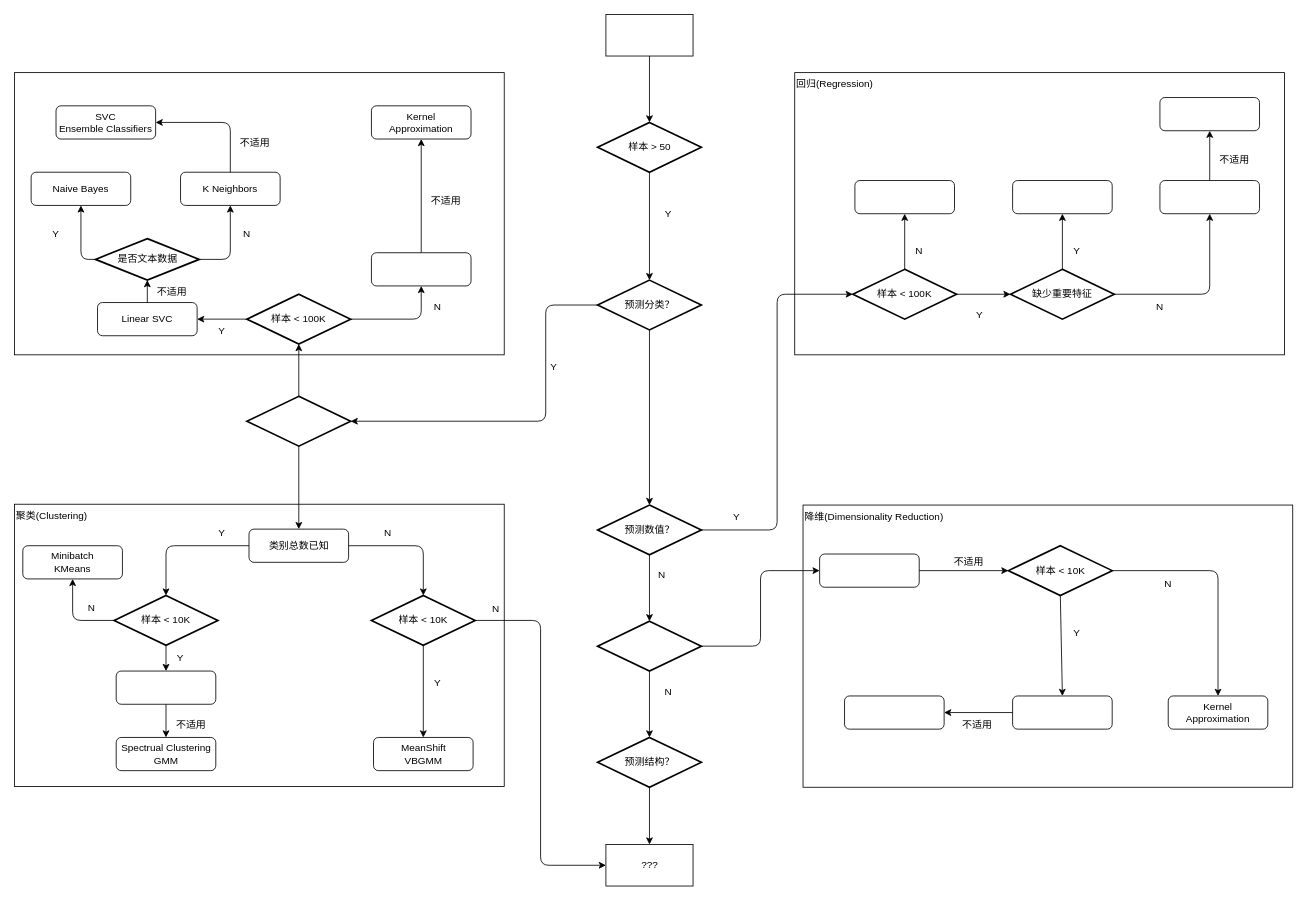
This 1307x901 diagram has some shape labels left out. The shapes that lost their labels are listed below. From the top down, each one's box as (x1, y1, x2, y2) in pixels, then its label:
(605, 14, 693, 56): 开始
(1159, 97, 1260, 131): SVR EnsembleRegressors
(14, 72, 504, 355): 分类(Classification)
(854, 180, 954, 214): SGD Regressor
(1012, 180, 1112, 214): Lasso ElasticNet
(1159, 180, 1260, 214): RidgeRegression SVR(kernel='linear')
(371, 252, 471, 286): SGD
(246, 395, 351, 447): 有标注数据
(819, 553, 919, 587): Randomized PCA
(596, 620, 702, 671): 只是观察？
(115, 670, 216, 704): KMeans
(844, 695, 944, 729): LLE
(1012, 695, 1112, 729): Isomap Spectral Embedding
